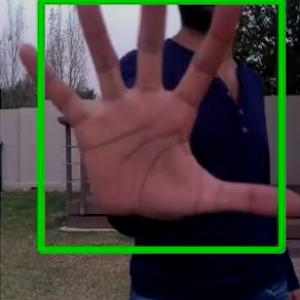follow_hand: (14, 0, 299, 232)
